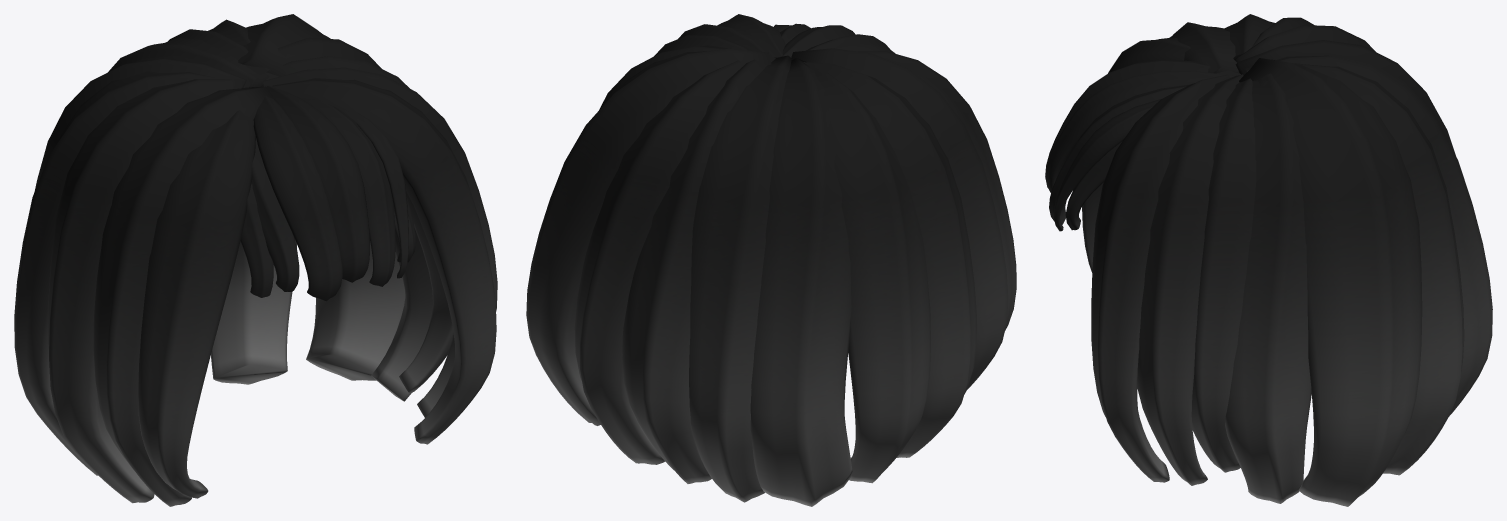
Rendered from hairb3.fbx.
3 views of the same model, side by side, from view 1: azimuth 30°, elevation 25°; view 2: azimuth 150°, elevation 25°; view 3: azimuth 270°, elevation 25° (orthographic). The views are drawn at different scales.
Visible parts, largest first — view 1: NurbsPath.021; view 2: NurbsPath.021; view 3: NurbsPath.021.
Part boxes in pixels (left/top/right/bottom): NurbsPath.021: left=14, top=14, right=497, bottom=506; NurbsPath.021: left=526, top=14, right=1016, bottom=506; NurbsPath.021: left=1045, top=14, right=1492, bottom=506.
Size of the model in its own units: 305 by 319 by 302.
